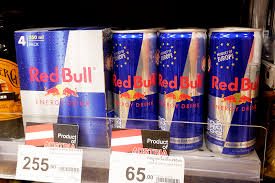redbull: (208, 27, 253, 155), (161, 28, 204, 148), (111, 28, 159, 130)
